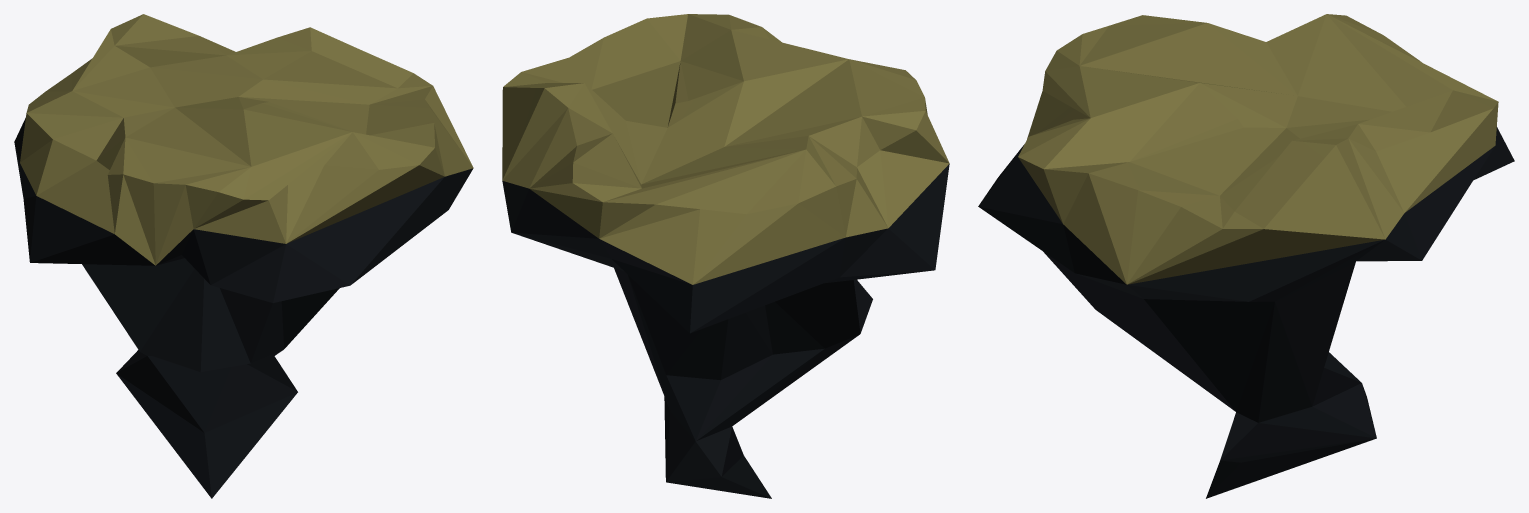
File: rock020.FBX
3 views of the same model, side by side, from view 1: azimuth 30°, elevation 25°; view 2: azimuth 150°, elevation 25°; view 3: azimuth 270°, elevation 25° (orthographic). The views are drawn at different scales.
Parts seen in each view (by area): view 1: rock_020; view 2: rock_020; view 3: rock_020.
Boxes of the visible parts, x1,y1,x2,y2 form: rock_020: (14,14,473,498); rock_020: (502,14,949,498); rock_020: (978,14,1514,498).
Bounding box in the file's own units: 10.84 × 10.22 × 11.3.
